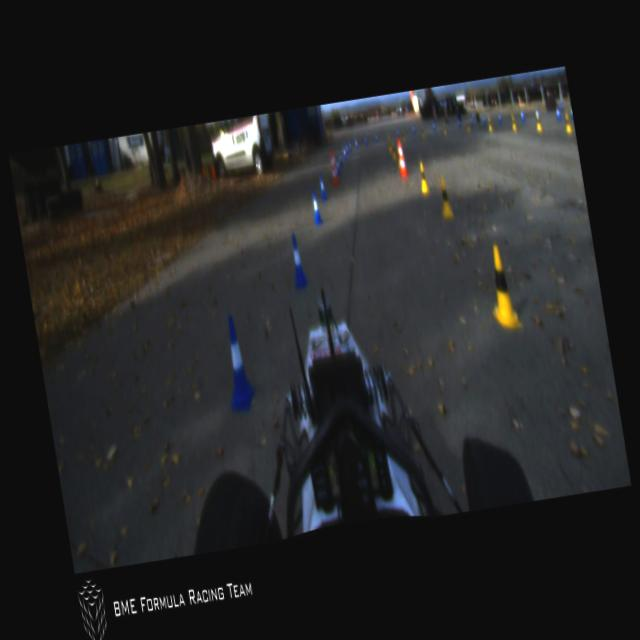blue_cone: (217, 312, 260, 414), (287, 233, 308, 289), (310, 188, 322, 223), (318, 174, 327, 198), (335, 157, 341, 176), (342, 146, 348, 160), (338, 150, 343, 166), (534, 107, 540, 118), (556, 108, 560, 120), (570, 108, 574, 120), (498, 114, 502, 125), (346, 144, 350, 154), (348, 140, 352, 150), (520, 112, 524, 122), (354, 138, 358, 148), (432, 121, 436, 131), (470, 116, 474, 126), (482, 115, 486, 125), (560, 100, 564, 110), (364, 135, 368, 144), (412, 125, 416, 134), (374, 134, 378, 142), (396, 128, 399, 137), (458, 118, 460, 127)
large_orange_cone: (396, 139, 408, 176), (329, 150, 339, 186), (331, 150, 339, 182)
unknown_cone: (205, 163, 211, 180), (210, 164, 216, 179), (202, 167, 207, 178)
yellow_cone: (481, 240, 523, 334), (436, 178, 454, 220), (417, 162, 429, 194), (564, 109, 574, 134), (390, 140, 398, 162), (510, 111, 518, 132), (535, 113, 543, 133), (486, 116, 494, 132), (386, 133, 392, 152), (401, 129, 406, 142), (443, 123, 447, 135), (422, 127, 426, 138), (466, 122, 470, 132)
